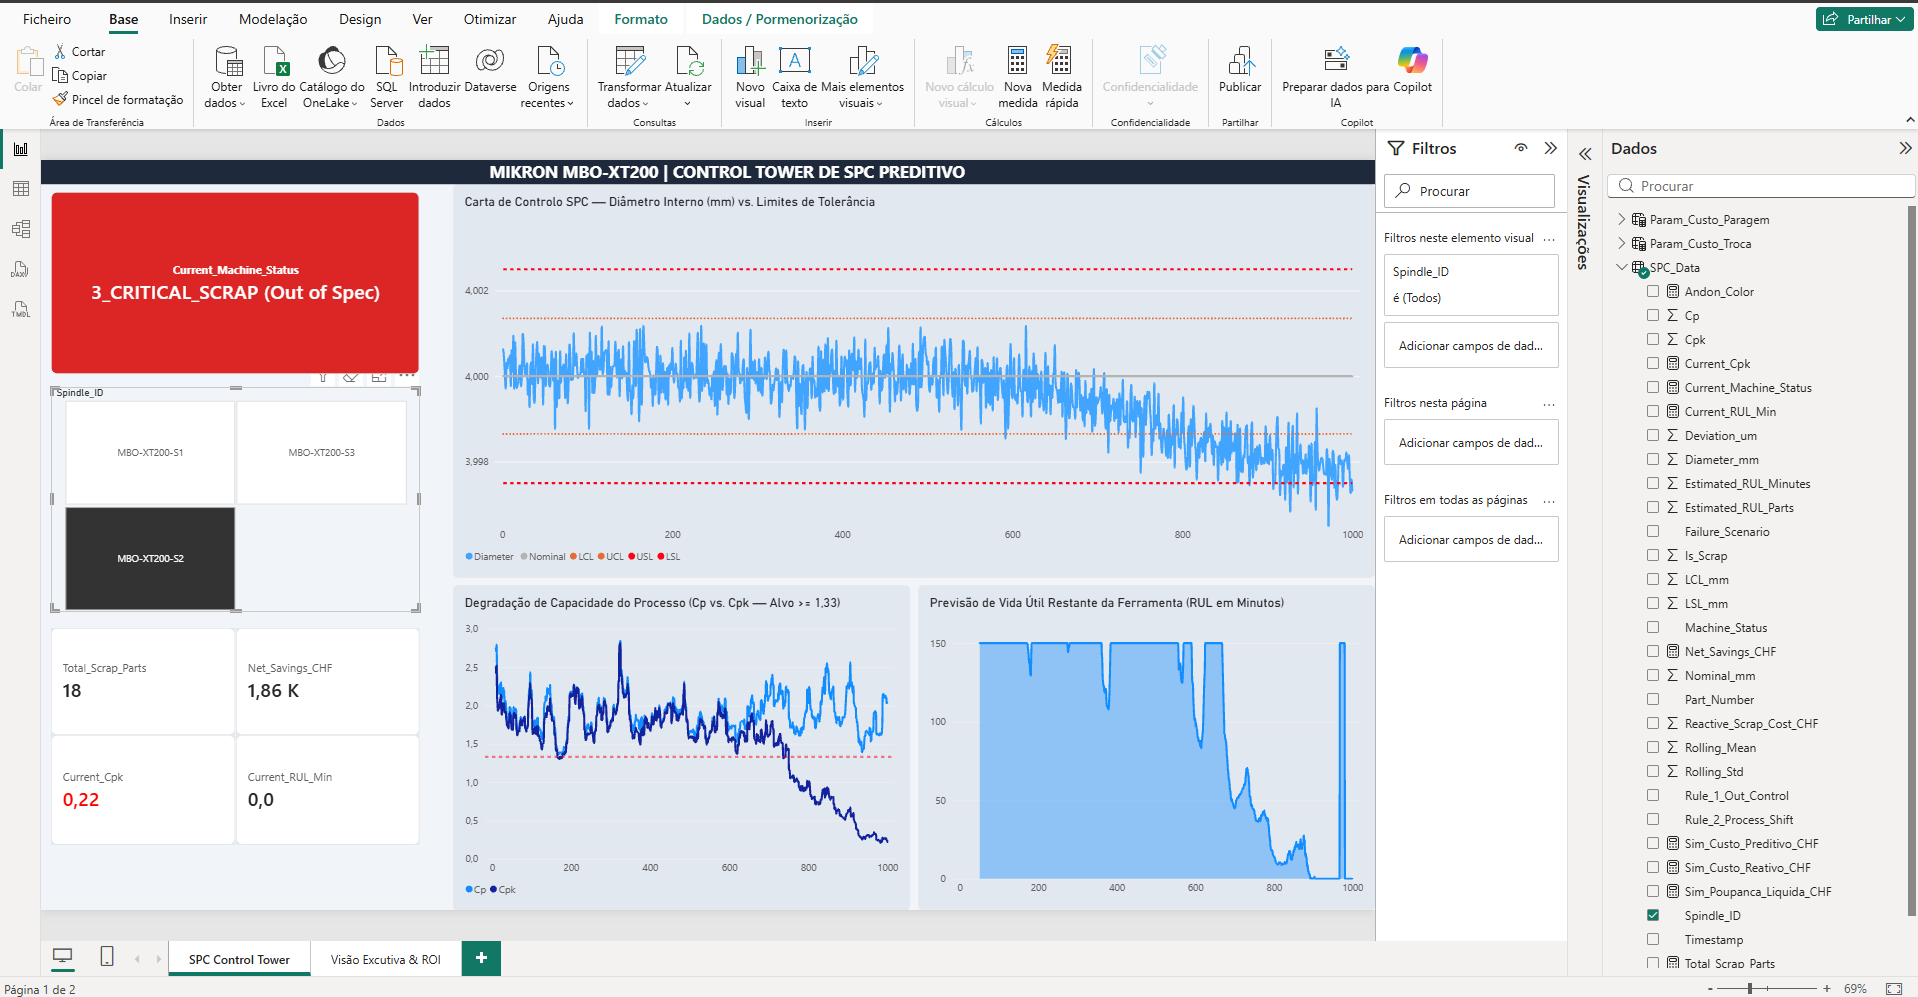

The page's visual inventory and layout, read from the dashboard file:
{"tool":"powerbi","page":{"name":"SPC Control Tower","canvas":[1920,1080],"ordinal":0},"visuals":[{"type":"slicer","fields":{"Values":["SPC_Data.Spindle_ID"]},"box":[14.7,327.2,530.9,323.1],"z":0},{"type":"cardVisual","fields":{"Data":["SPC_Data.Current_Cpk"]},"box":[14.7,827.3,265.5,158.2],"z":1000},{"type":"cardVisual","fields":{"Data":["SPC_Data.Net_Savings_CHF"]},"box":[280.2,673.1,264.1,154.2],"z":2000},{"type":"cardVisual","fields":{"Data":["SPC_Data.Total_Scrap_Parts"]},"box":[14.7,673.1,265.5,154.2],"z":3000},{"type":"cardVisual","fields":{"Data":["SPC_Data.Current_RUL_Min"]},"box":[280.2,827.3,264.1,158.2],"z":4000},{"type":"lineChart","title":"Carta de Controlo SPC — Diâmetro Interno (mm) vs. Limites de Tolerância","fields":{"Category":["SPC_Data.Part_Number"],"Y":["Avg(SPC_Data.Diameter_mm)","Avg(SPC_Data.Nominal_mm)","Avg(SPC_Data.LCL_mm)","Avg(SPC_Data.UCL_mm)","Avg(SPC_Data.USL_mm)","Avg(SPC_Data.LSL_mm)"]},"box":[592.6,34.9,1327.4,567.2],"z":5000},{"type":"lineChart","title":"Degradação de Capacidade do Processo (Cp vs. Cpk — Alvo >= 1,33)","fields":{"Category":["SPC_Data.Part_Number"],"Y":["Avg(SPC_Data.Cp)","Avg(SPC_Data.Cpk)"]},"box":[592.6,611.4,658.3,469.3],"z":6000},{"type":"areaChart","title":"Previsão de Vida Útil Restante da Ferramenta (RUL em Minutos)","fields":{"Category":["SPC_Data.Part_Number"],"Y":["Avg(SPC_Data.Estimated_RUL_Minutes)"]},"box":[1261.7,611.4,658.3,467.9],"z":7000},{"type":"cardVisual","fields":{"Data":["SPC_Data.Current_Machine_Status"]},"box":[14.7,45.6,530.9,262.8],"z":8000},{"type":"shape","box":[0,0,1920,34.9],"z":9000},{"type":"textbox","box":[530.9,0,913.1,34.9],"z":10000}]}

Visuals, with their boxes on the page's 1920x1080 design canvas (x1, y1, x2, y2). These are canvas units, not pixel positions in the 1918x997 screenshot, which may show the page scaled, cropped or inside an application window:
slicer - SPC_Data.Spindle_ID: [15, 327, 546, 650]
cardVisual - SPC_Data.Current_Cpk: [15, 827, 280, 986]
cardVisual - SPC_Data.Net_Savings_CHF: [280, 673, 544, 827]
cardVisual - SPC_Data.Total_Scrap_Parts: [15, 673, 280, 827]
cardVisual - SPC_Data.Current_RUL_Min: [280, 827, 544, 986]
"Carta de Controlo SPC — Diâmetro Interno (mm) vs. Limites de Tolerância" lineChart: [593, 35, 1920, 602]
"Degradação de Capacidade do Processo (Cp vs. Cpk — Alvo >= 1,33)" lineChart: [593, 611, 1251, 1081]
"Previsão de Vida Útil Restante da Ferramenta (RUL em Minutos)" areaChart: [1262, 611, 1920, 1079]
cardVisual - SPC_Data.Current_Machine_Status: [15, 46, 546, 308]
shape: [0, 0, 1920, 35]
textbox: [531, 0, 1444, 35]
